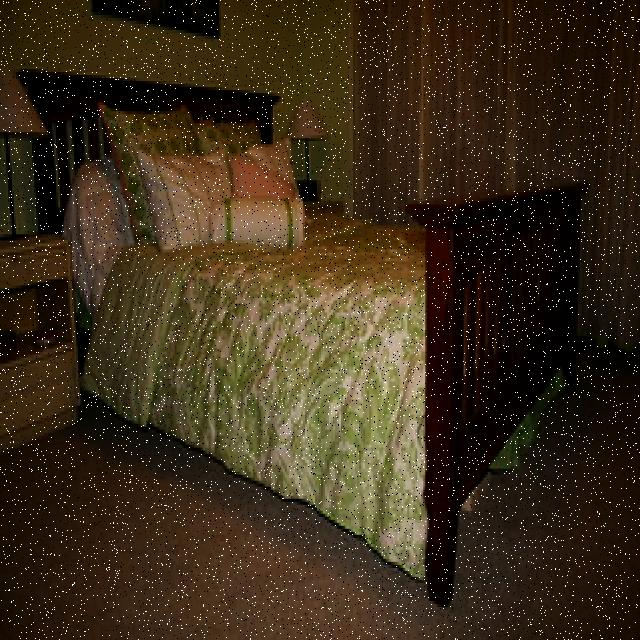bed: (24, 54, 588, 588)
